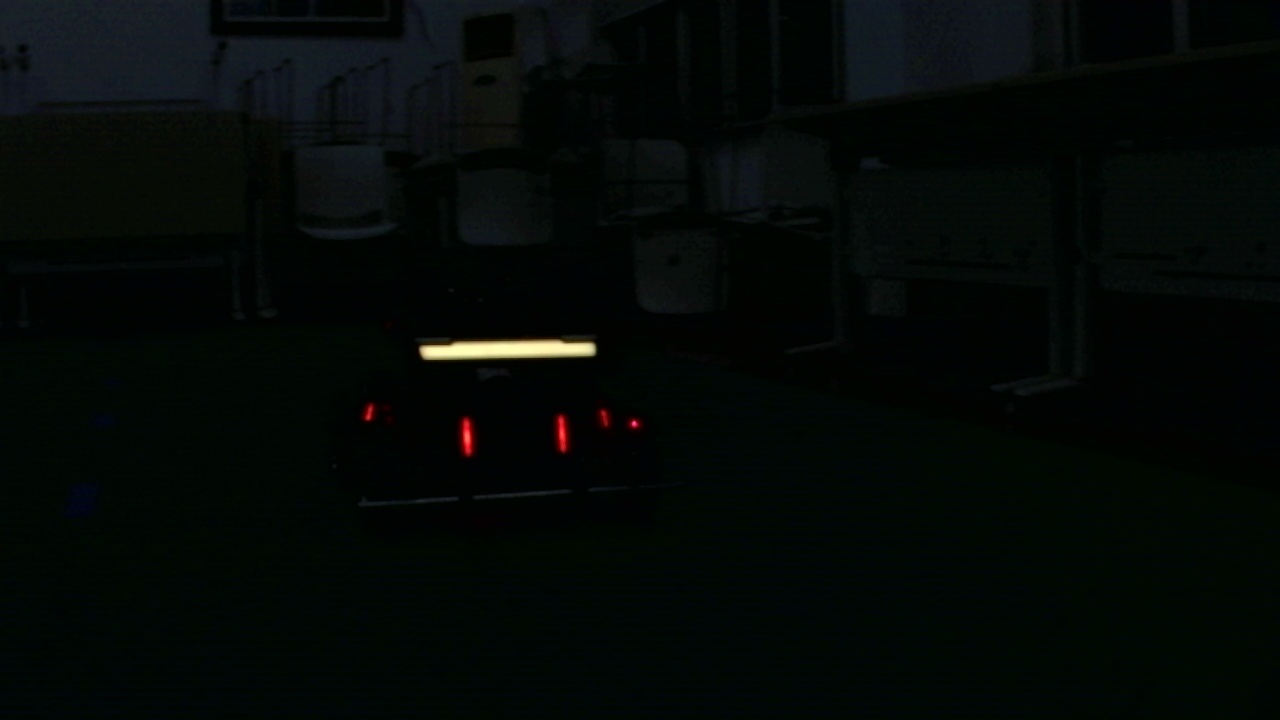lamp: (552, 415, 568, 452), (462, 414, 474, 453)
pair1: (463, 415, 569, 452)
